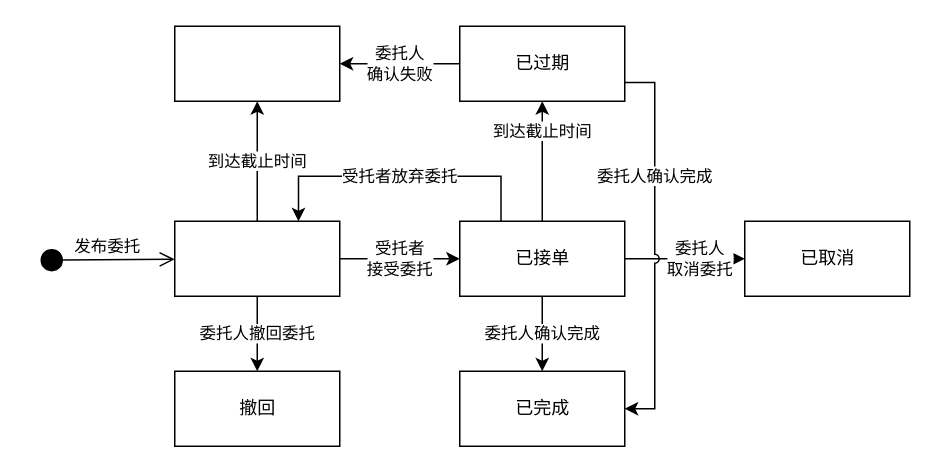
Image size: 936x473. Some labels were removed from this diagram. Here are the shapes that lost their labels. From the top down, the box of each, then its label:
(173, 25, 340, 101): 已失败
(173, 220, 340, 296): 等待接受
